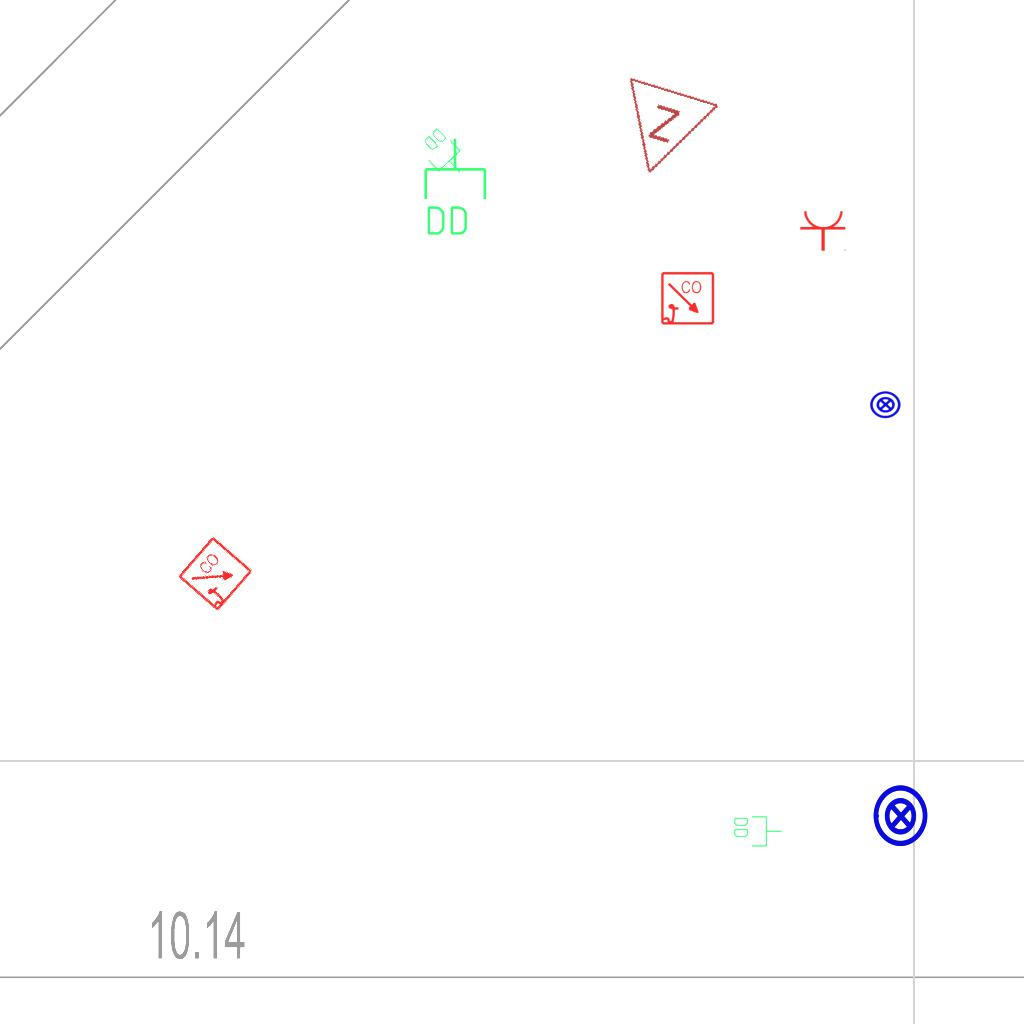Datenanschluss_zweifach: (420, 136, 489, 239), (413, 123, 474, 185), (732, 814, 783, 848)
ROA_Rauchmelder_optisch_mit_Signalgeber_(Sockelsirene): (176, 534, 256, 614), (660, 271, 716, 327)
Schukosteckdose_einfach: (799, 209, 849, 252)
Taster_beleuchtet: (868, 783, 934, 849), (869, 388, 902, 421)
Zimmersignalleuchte: (601, 69, 725, 195)
